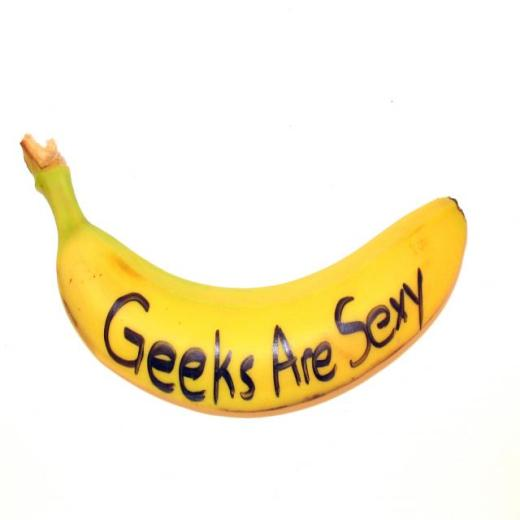Banana: (16, 132, 466, 421)
